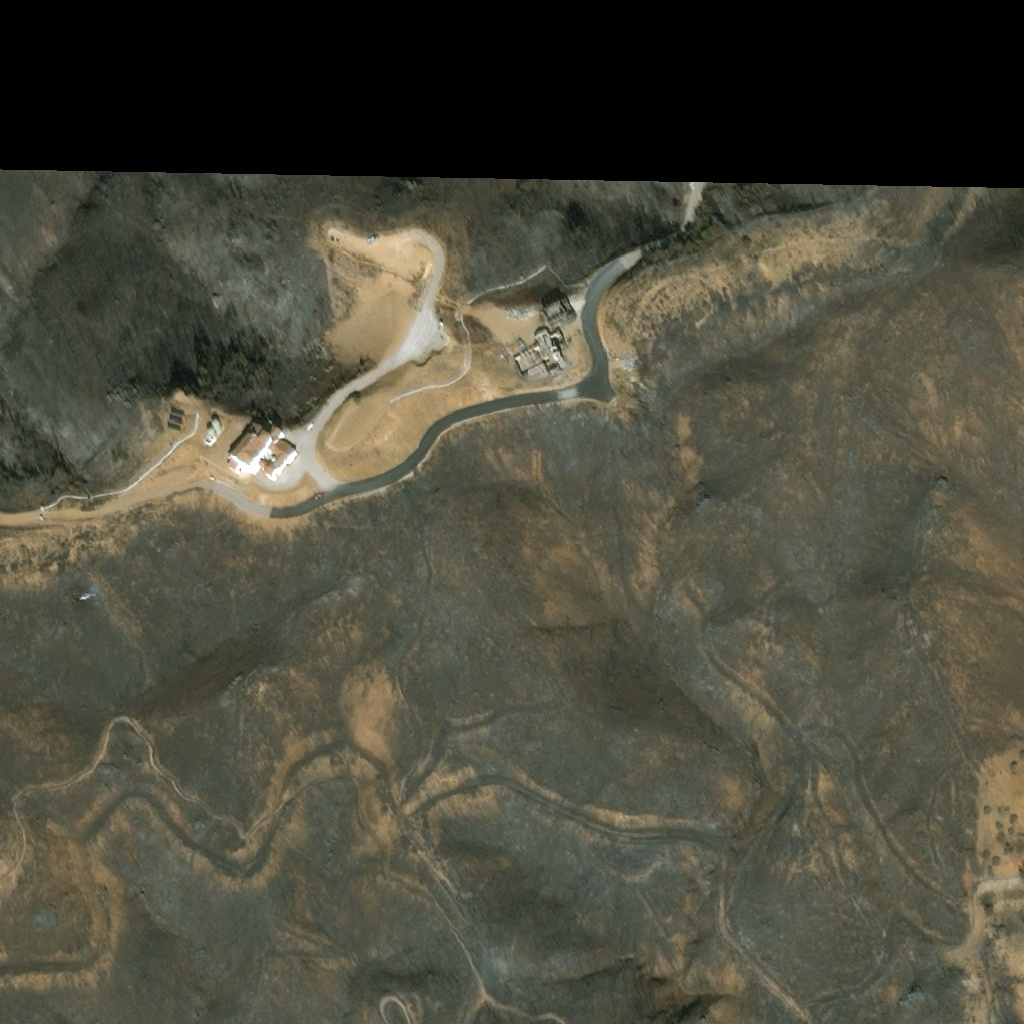0 no-damage: (227, 421, 298, 484), (205, 426, 214, 435), (211, 419, 219, 427)
3 destroyed: (512, 330, 566, 381), (541, 298, 575, 328), (547, 368, 562, 378)
